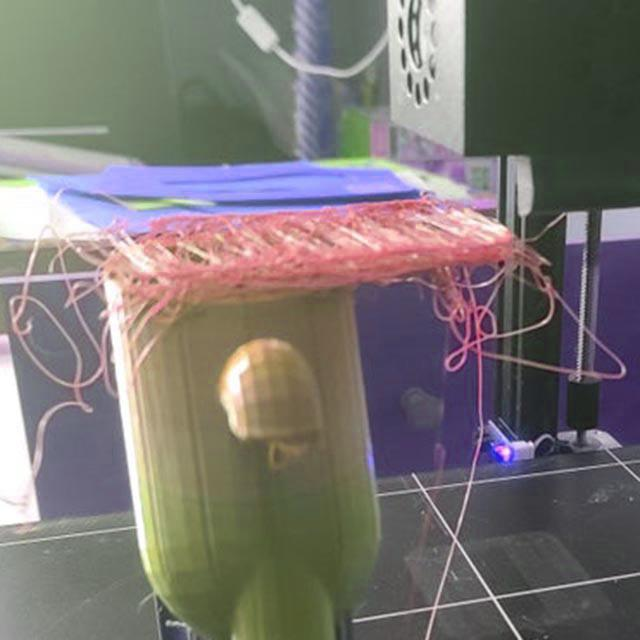Spaghetti: (128, 187, 552, 306), (0, 177, 126, 505), (429, 263, 629, 384), (108, 274, 184, 376)
